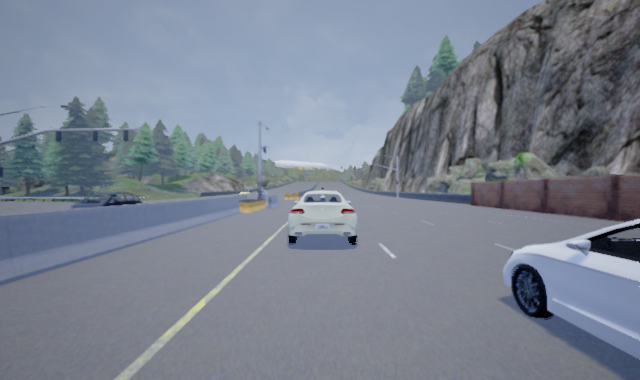vehicle: (501, 215, 639, 379), (286, 189, 358, 246), (67, 191, 142, 222)
